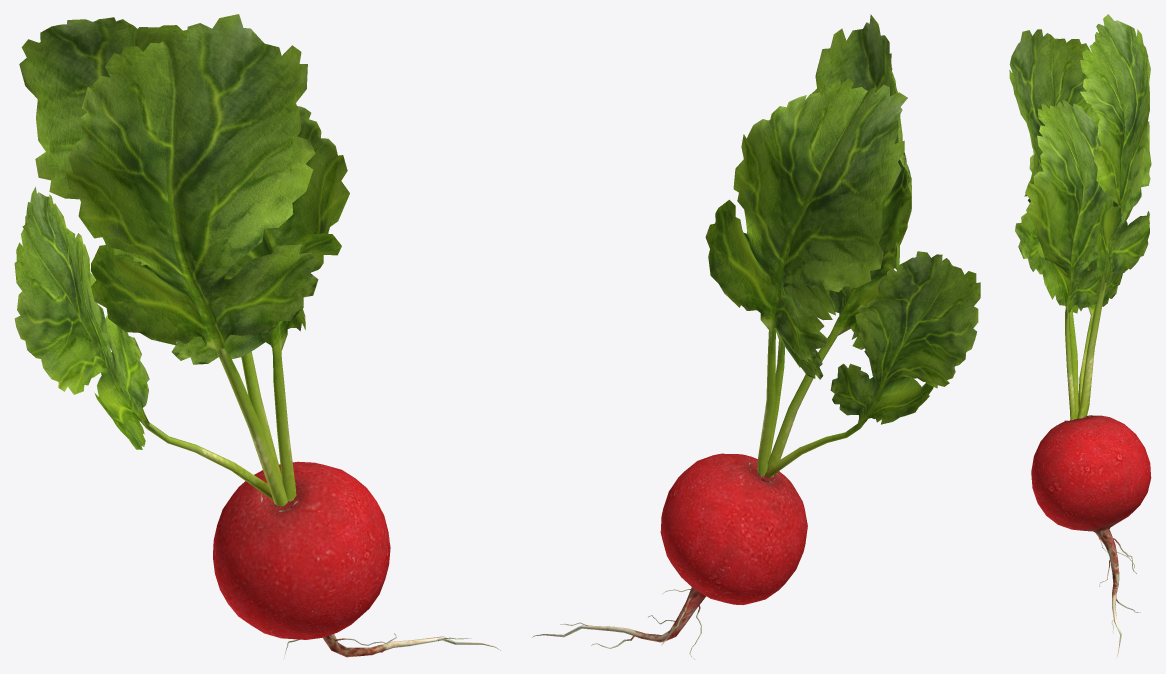
The model's file is radishes.glb.
3 renders of one model, left to right at view 1: azimuth 30°, elevation 25°; view 2: azimuth 150°, elevation 25°; view 3: azimuth 270°, elevation 25°, orthographic. The views are drawn at different scales.
Visible parts, largest first — view 1: 2; view 2: 2; view 3: 2.
Part boxes in pixels (x1,y1,x2,y2): 2: [14, 14, 500, 659]; 2: [532, 14, 980, 659]; 2: [1009, 14, 1151, 656].
Bounding box in the file's own units: 1.28 × 1.85 × 0.4587.
Materials: 1 (1 with a texture image).
